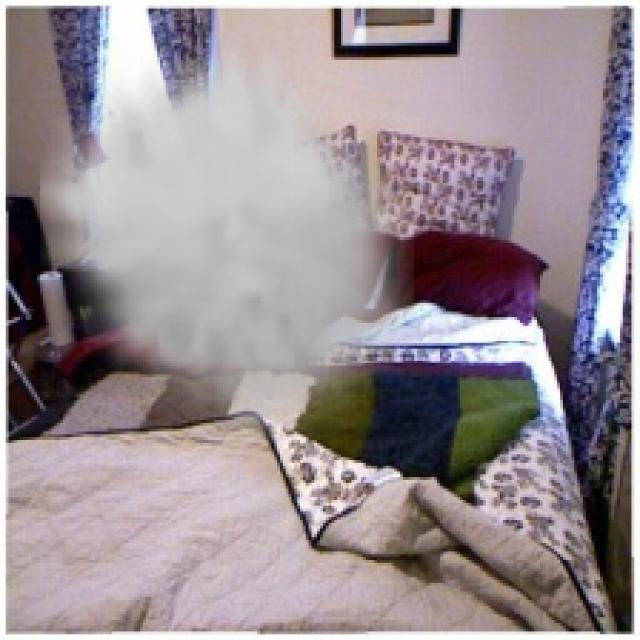smoke: (40, 31, 414, 443)
